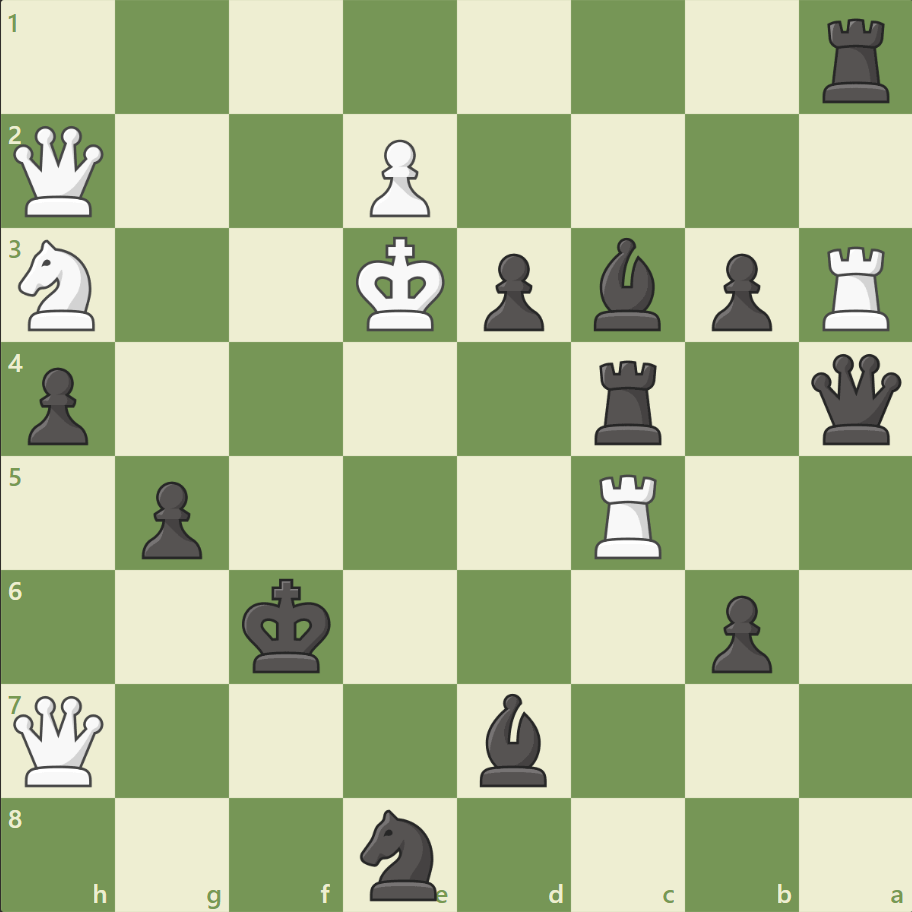K: (351, 231, 451, 339)
N: (11, 234, 108, 337)
P: (361, 132, 435, 223)
Q: (10, 122, 109, 222), (10, 690, 109, 789)
R: (587, 466, 670, 563), (814, 239, 897, 336)
b: (471, 687, 555, 790), (585, 233, 669, 336)
k: (238, 571, 338, 679)
n: (351, 802, 449, 904)
p: (701, 586, 776, 677), (133, 473, 208, 564), (20, 359, 95, 450), (701, 246, 776, 337), (474, 246, 549, 337)
q: (805, 349, 904, 449)
r: (587, 352, 670, 449), (814, 12, 897, 109)
